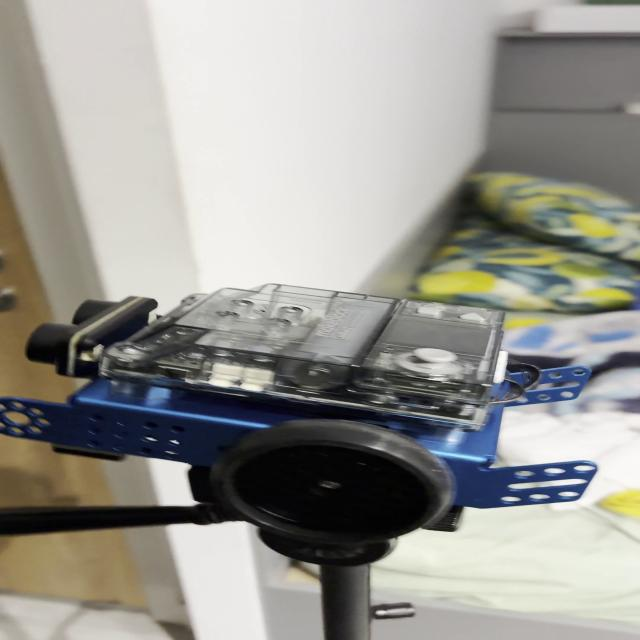mbot-detection: (0, 276, 606, 555)
